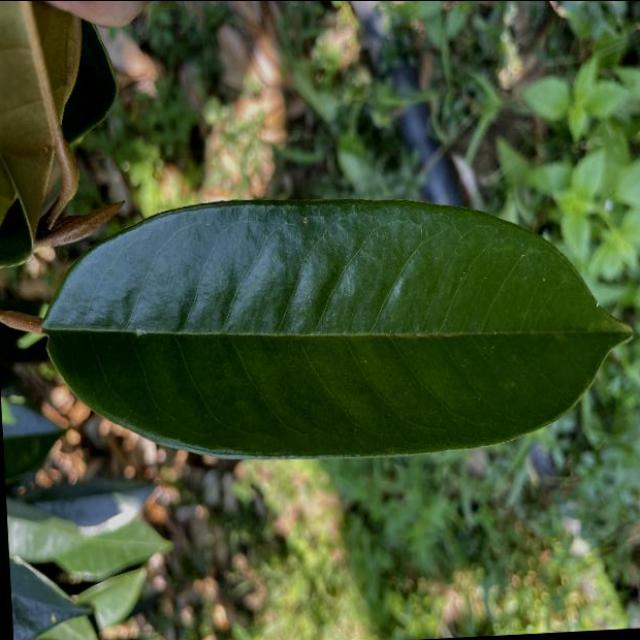No Disease: (28, 168, 640, 484)
